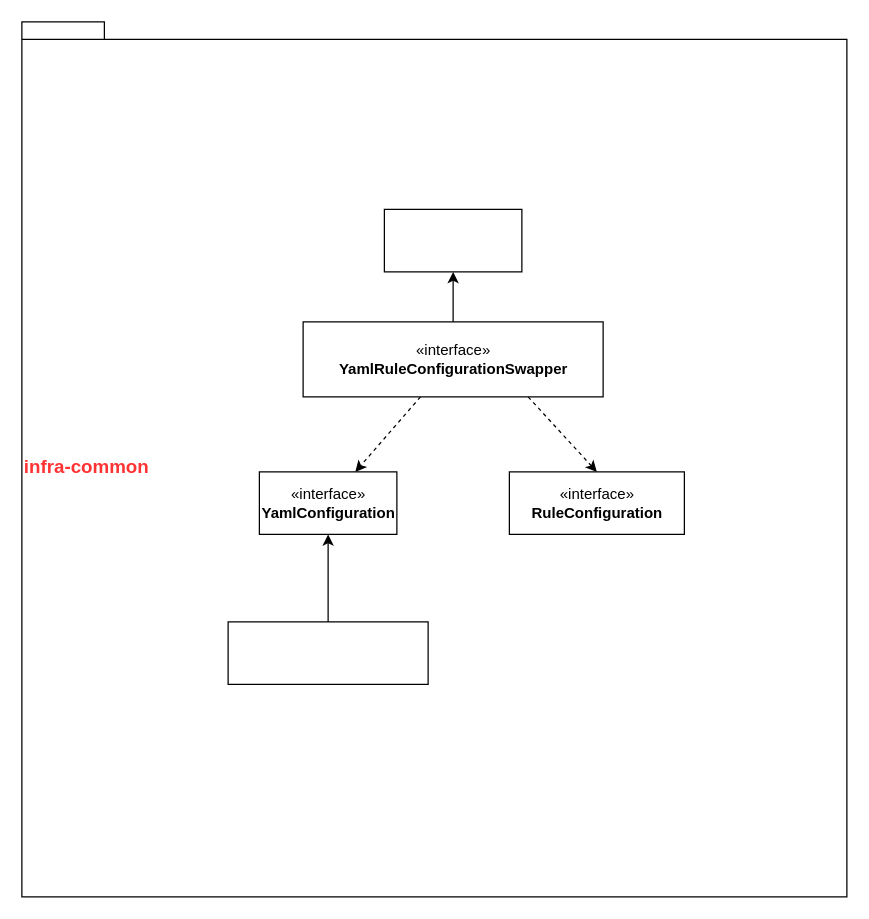
This 869x919 diagram has some shape labels left out. Here are the shapes that lost their labels. From the top down, the centre of each, then its label:
At point 452,240: "«interface» YamlSwapper".
At point 327,652: "«interface» YamlRuleConfiguration".
